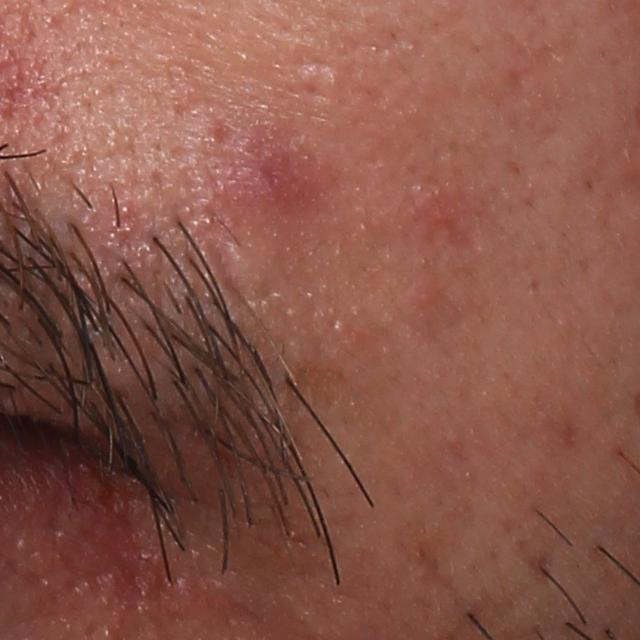papule: (220, 133, 302, 210), (118, 551, 174, 606), (409, 185, 454, 239)
